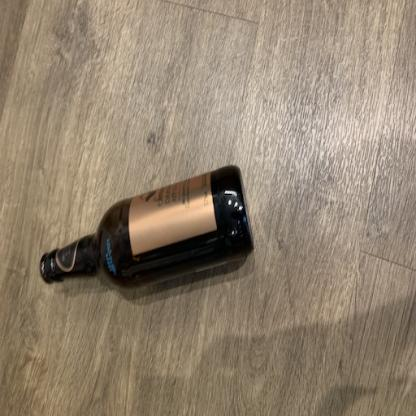trash: (35, 166, 256, 297)
